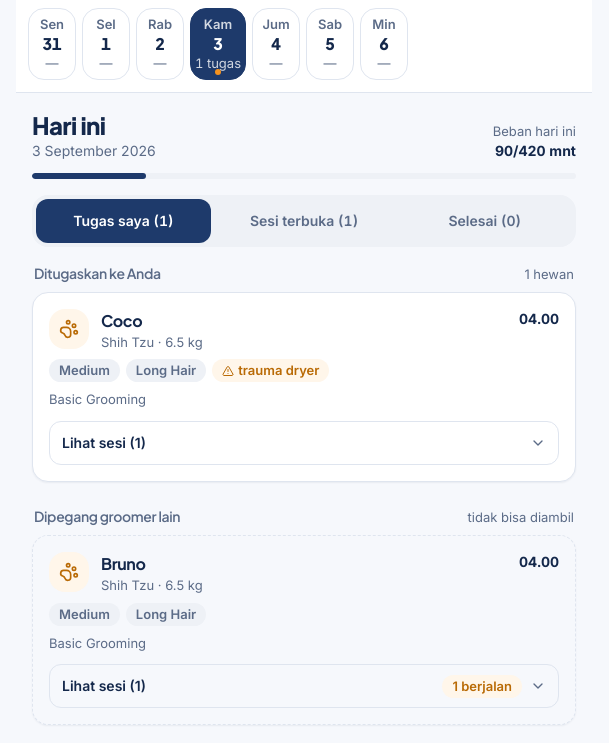
GroomerScreen — the list › folding a card › says on a folded Sesi terbuka card how many sessions have nobody
The width and height of the screenshot is (609, 743).
Click the tab "Sesi terbuka (1)" at (304, 221), box [217,199,391,243]
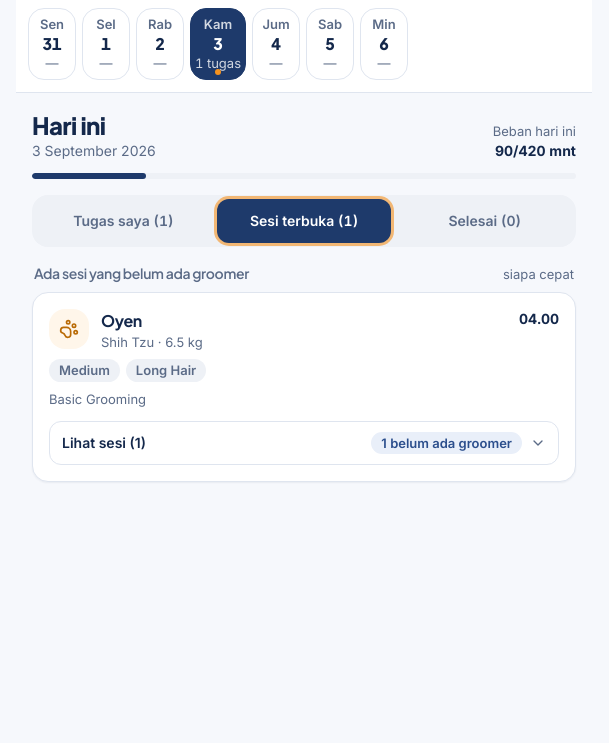
Result: the text "1 belum ada groomer" is shown at [371,432,522,454]
